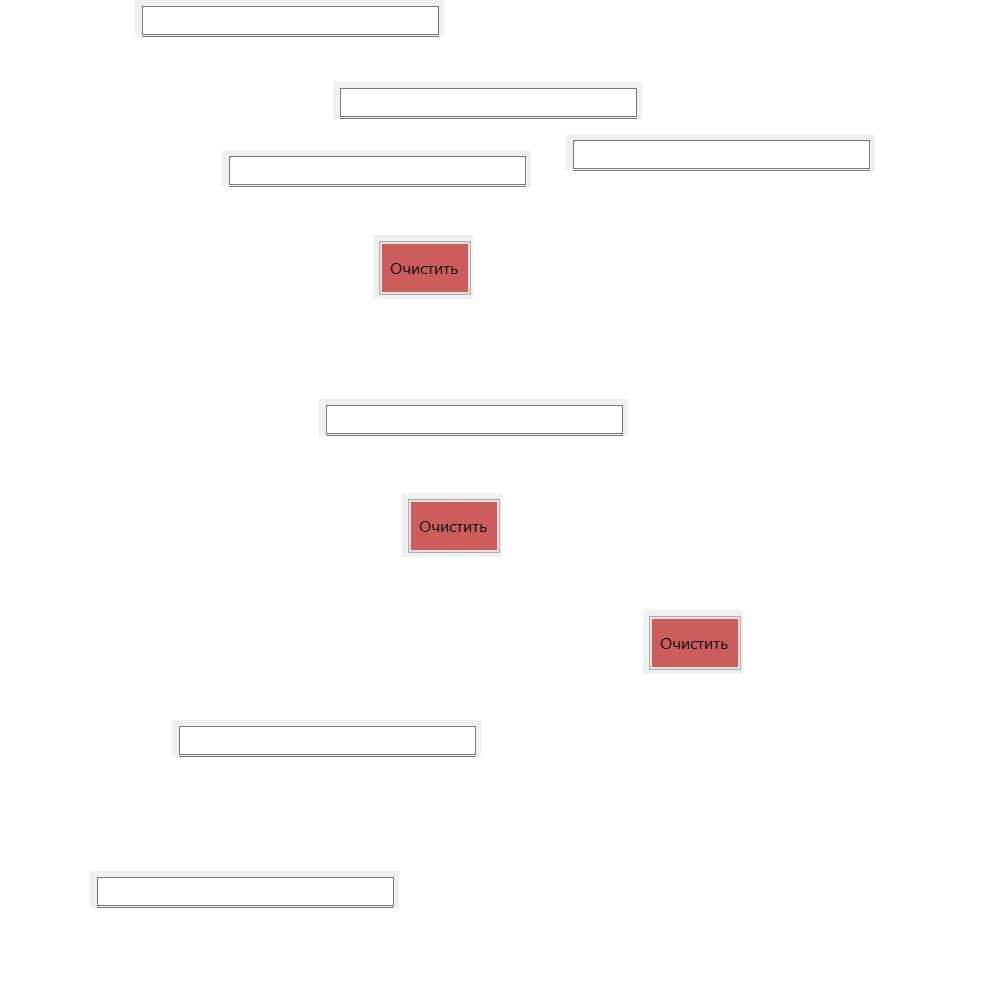Button: (402, 493, 502, 557), (373, 235, 473, 299), (643, 610, 743, 674)
EditText-: (222, 150, 531, 187), (135, 0, 444, 37), (172, 720, 481, 757), (566, 134, 875, 171), (319, 399, 628, 436), (333, 82, 642, 119), (90, 871, 399, 908)
